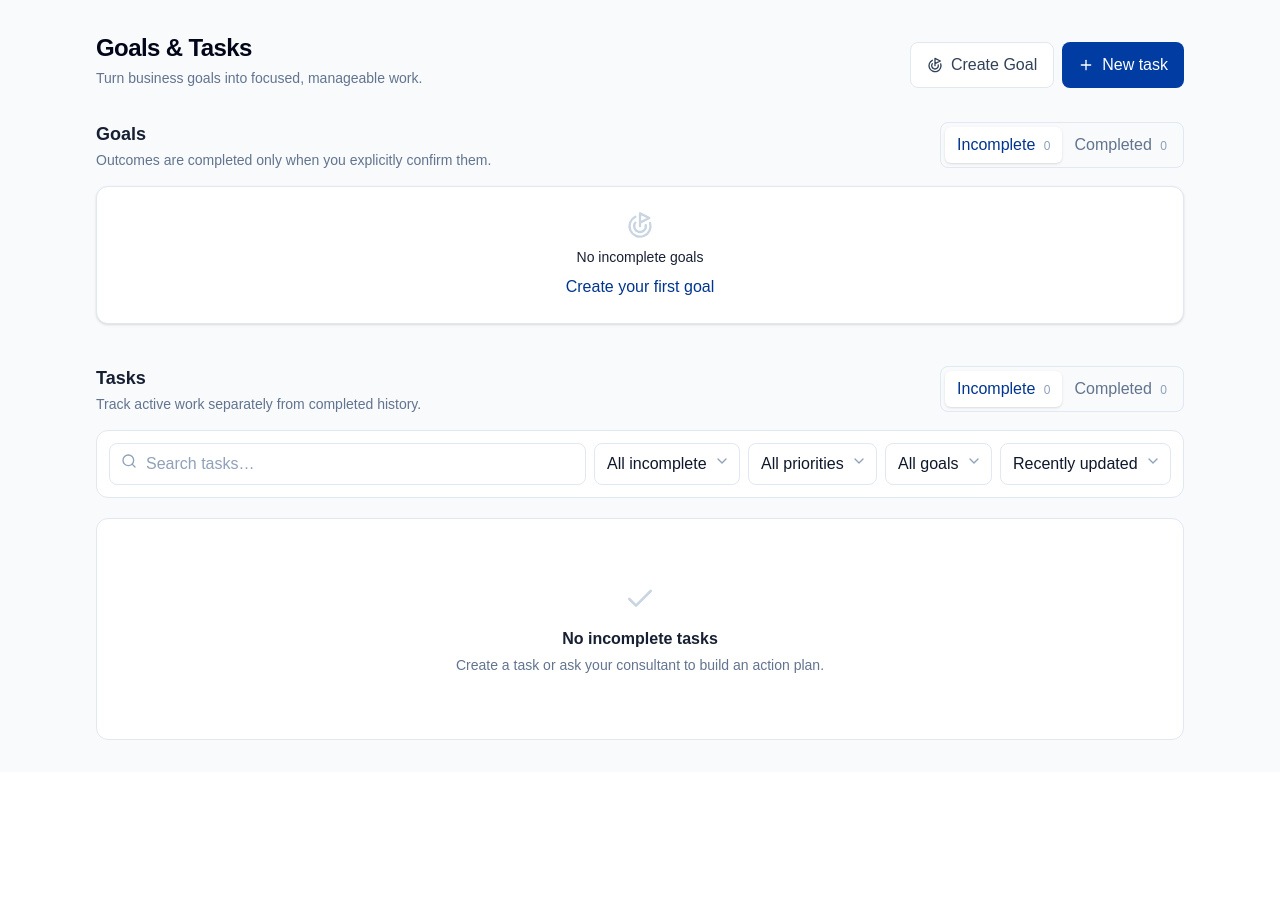
persisted task and goal management › keeps the task form open and shows the database error after a failed insertion
Expected: the heading "No incomplete tasks" is shown, top-left (562, 630), bottom-right (718, 647)
Step 1. Click the button "New task" → (1123, 65), box top-left (1062, 42), bottom-right (1184, 88)
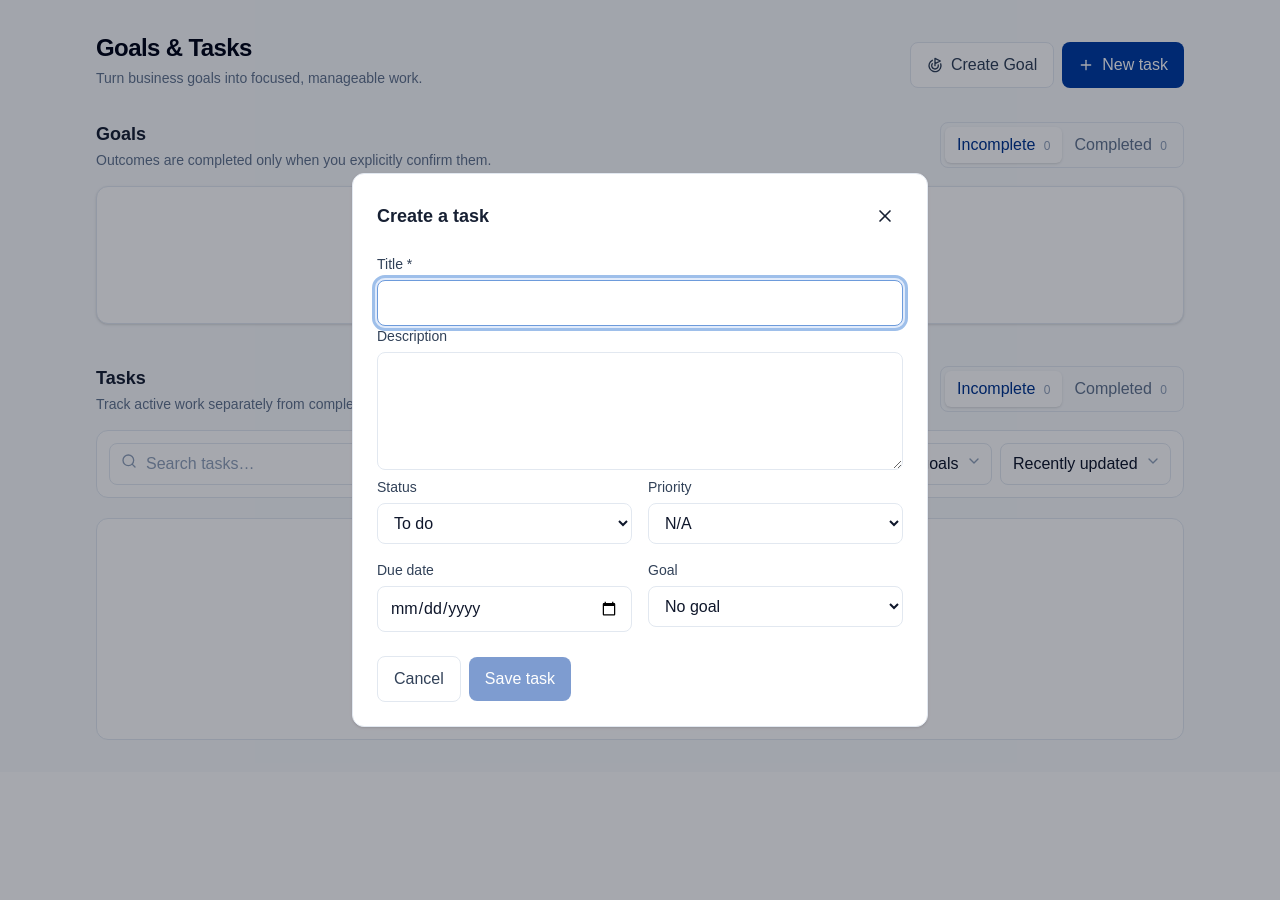
Step 2. Type "Persist me" into the field labelled "Title *" → (640, 303), box top-left (377, 280), bottom-right (903, 326)
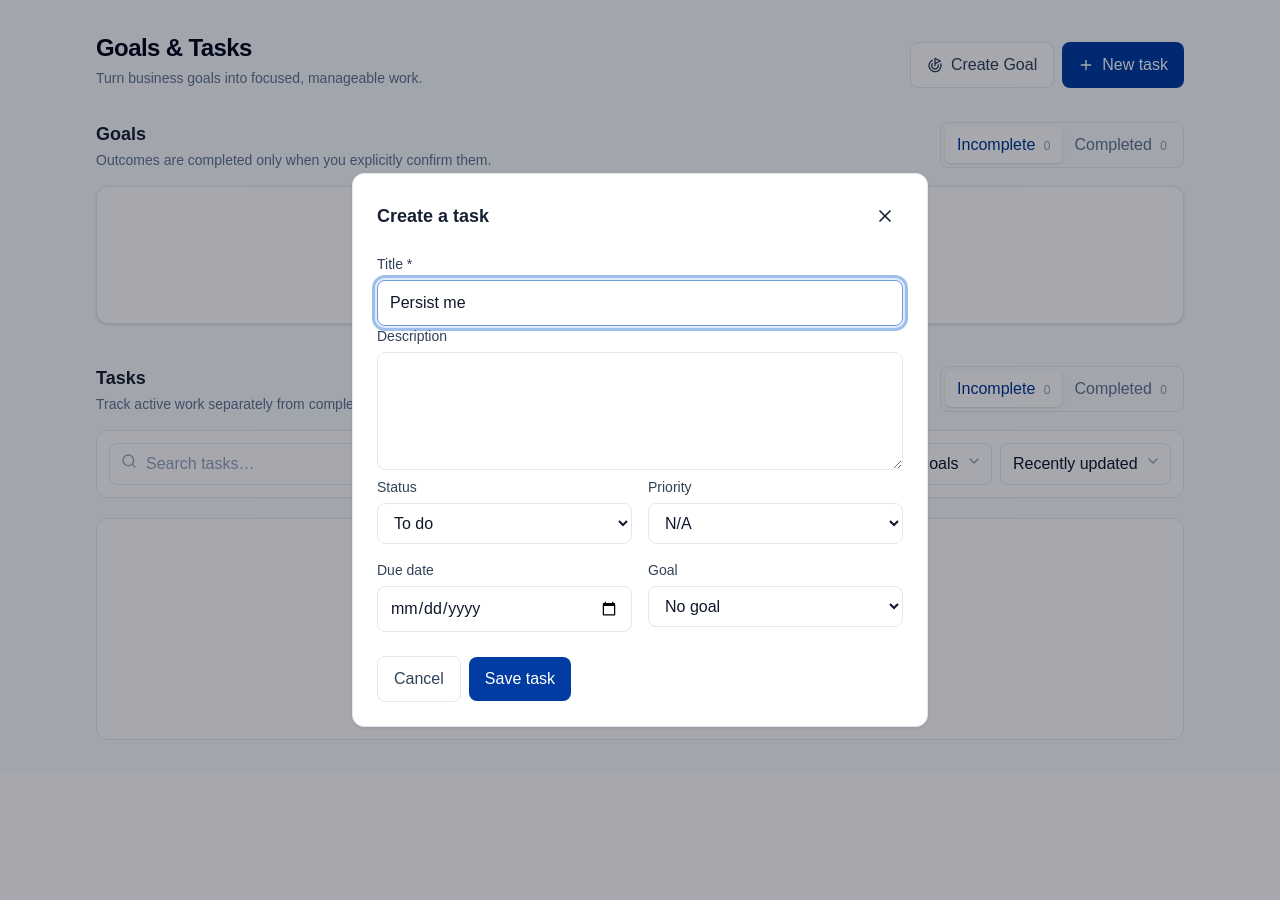
Step 3. Click the button "Save task" → (520, 679), box top-left (469, 657), bottom-right (571, 701)
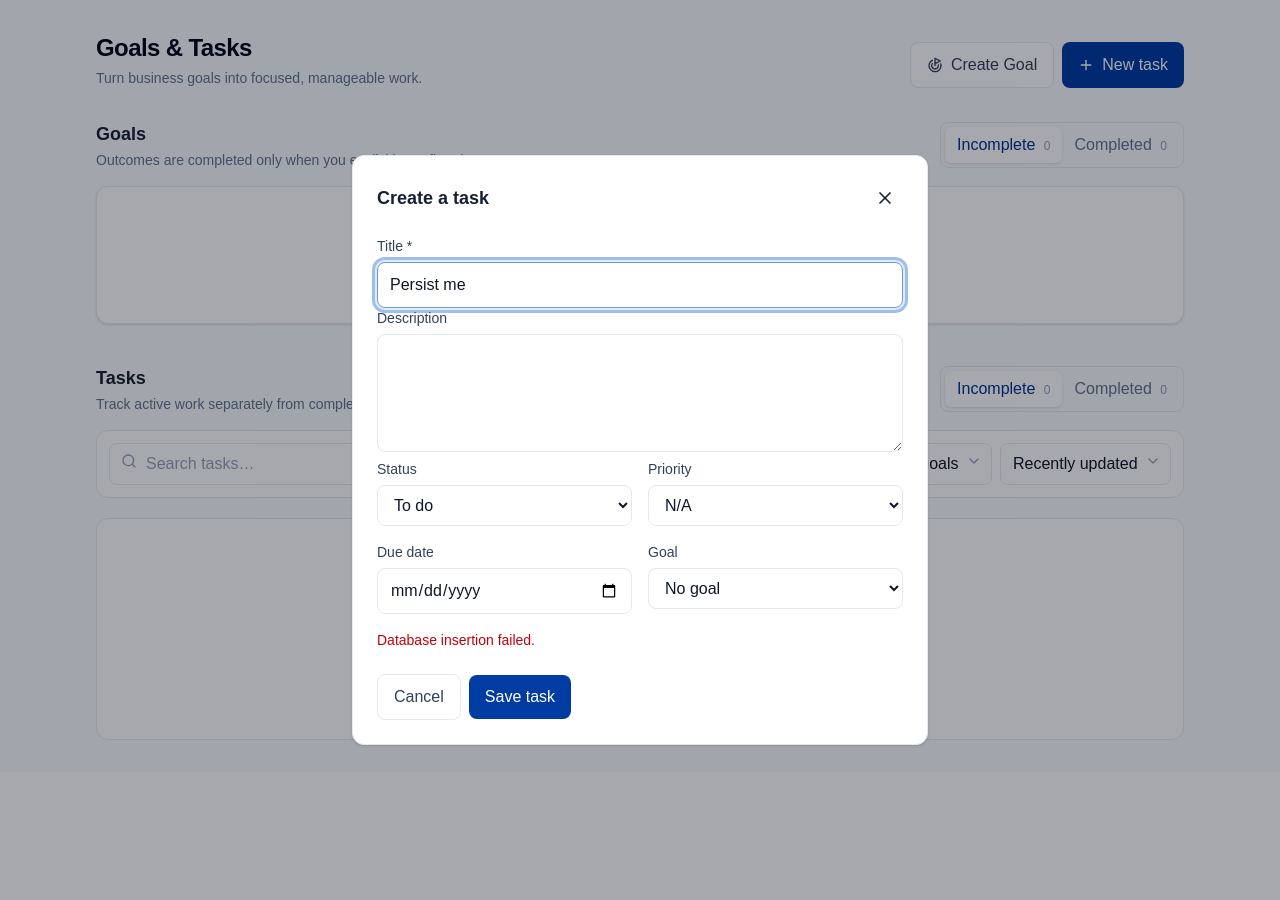
Result: the dialog "Create a task" is shown at top-left (352, 155), bottom-right (928, 745)
Result: the message reads "Database insertion failed." at top-left (377, 632), bottom-right (535, 648)
